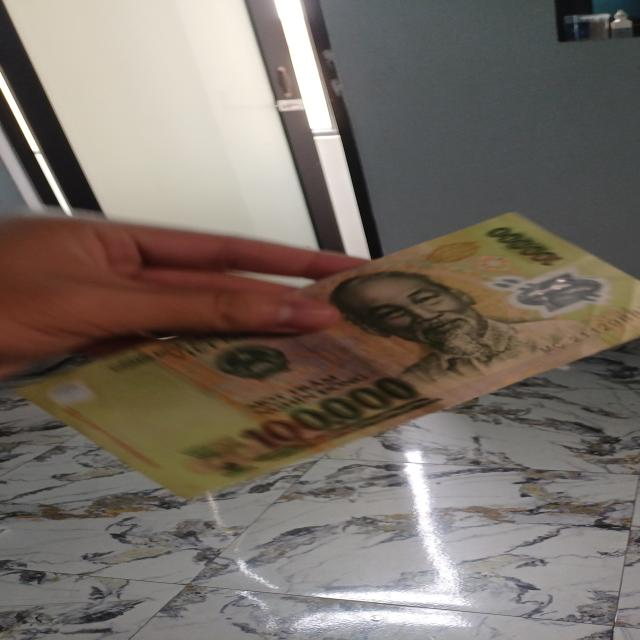100 000 VND: (9, 210, 636, 502)
